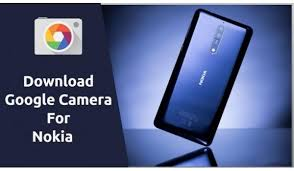nokia: (150, 6, 257, 149)
